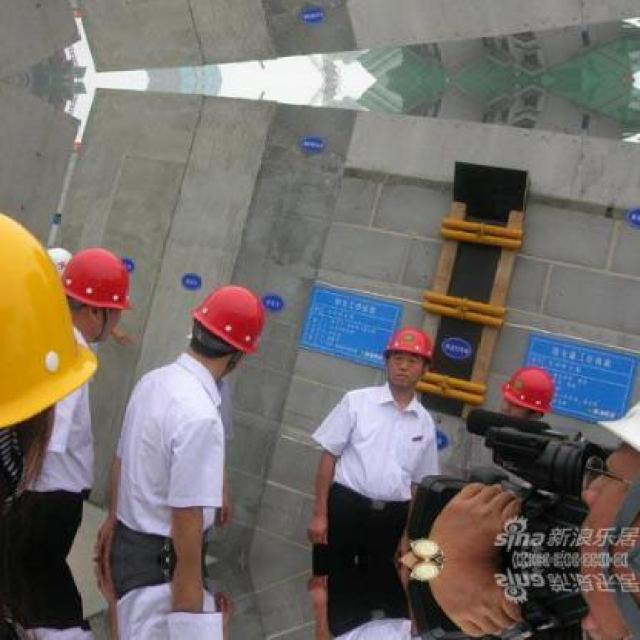helmet: (0, 204, 94, 501), (186, 280, 269, 379), (55, 241, 130, 350), (381, 318, 434, 392), (498, 362, 557, 426)
